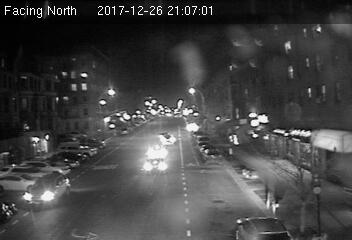car: (22, 172, 70, 208), (142, 159, 169, 174), (145, 144, 169, 159), (202, 148, 222, 162), (161, 135, 176, 144)
